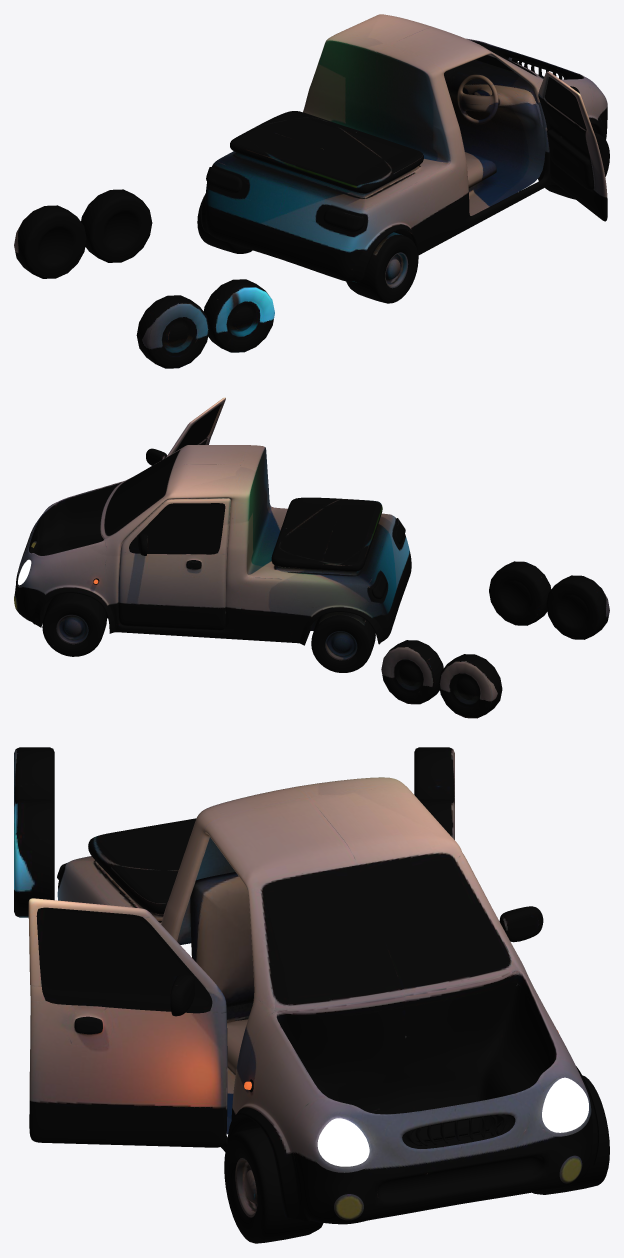
Rendered from car.glb.
3 views of the same model, one above another, from view 1: azimuth 30°, elevation 25°; view 2: azimuth 150°, elevation 25°; view 3: azimuth 270°, elevation 25° (orthographic). The views are drawn at different scales.
Visible parts, largest first — view 1: Car Body; view 2: Car Body; view 3: Car Body.
Part boxes in pixels (x1,y1,x2,y2): Car Body: (14, 14, 609, 368); Car Body: (14, 397, 609, 718); Car Body: (14, 747, 609, 1243).
Size of the model in its own units: 4.34 by 1.38 by 2.47.
3 materials, 1 textured.
